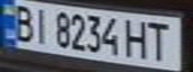2: (66, 10, 87, 52)
3: (84, 12, 106, 54)
4: (100, 15, 124, 56)
8: (48, 8, 72, 48)
B: (6, 1, 39, 43)
H: (121, 17, 151, 60)
I: (27, 6, 54, 45)
T: (145, 19, 175, 62)
